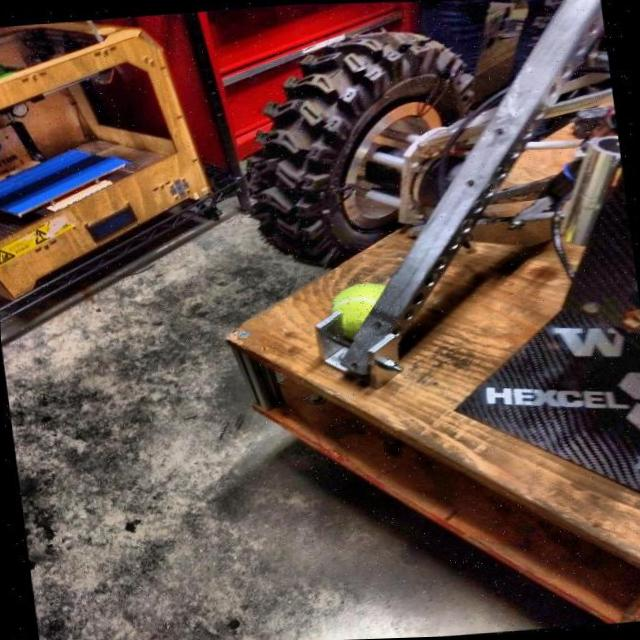Tennis Ball: (328, 272, 405, 341)
